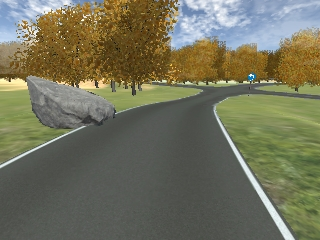left: (248, 73, 253, 80)
